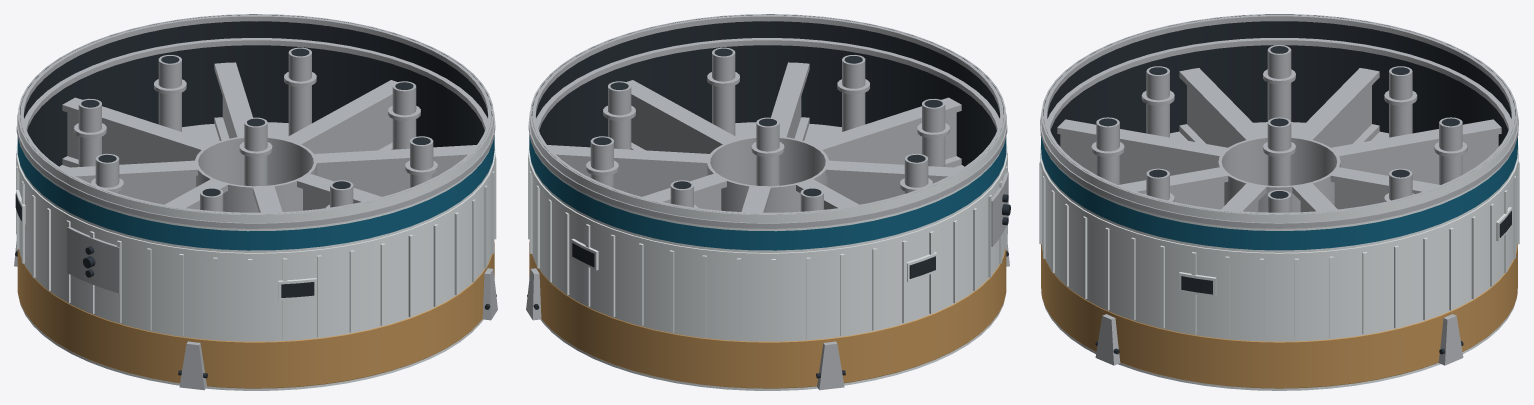
Rendered from mount_s1_9_d54.fbx.
3 renders of one model, left to right at view 1: azimuth 30°, elevation 25°; view 2: azimuth 150°, elevation 25°; view 3: azimuth 270°, elevation 25°, orthographic.
Parts seen in each view (by area): view 1: mount_s1_9_d54_LOD0; view 2: mount_s1_9_d54_LOD0; view 3: mount_s1_9_d54_LOD0.
Part boxes in pixels (x1,y1,x2,y2): mount_s1_9_d54_LOD0: [14, 14, 497, 390]; mount_s1_9_d54_LOD0: [526, 14, 1010, 390]; mount_s1_9_d54_LOD0: [1039, 14, 1519, 390].
Size of what is drawn, in the model's own units: 5.44 by 2.2 by 5.45.
